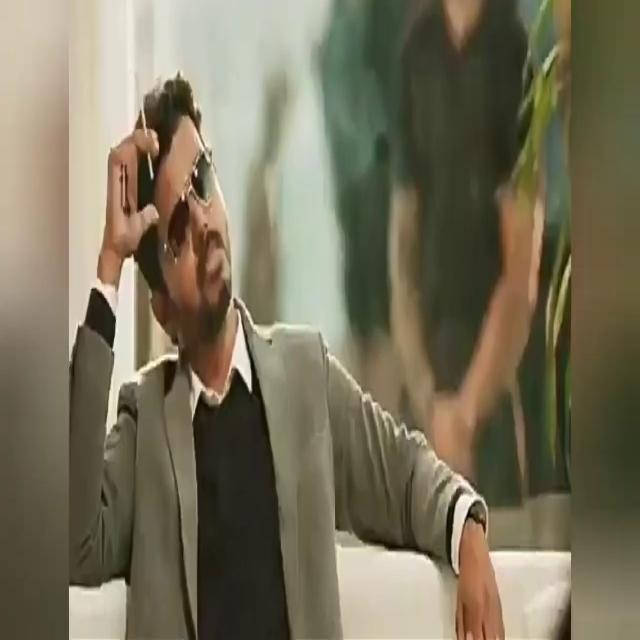smoking: (122, 67, 172, 201)
